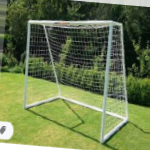goals: (22, 17, 130, 144)
